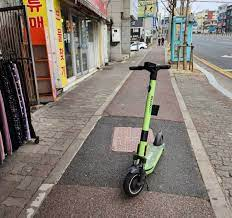kick_board: (124, 61, 173, 196)
kick_body: (143, 145, 160, 172)
kick_handler: (130, 63, 171, 79)
kick_neck: (139, 80, 155, 157)
kick_wheel: (126, 170, 146, 196), (156, 132, 165, 150)
